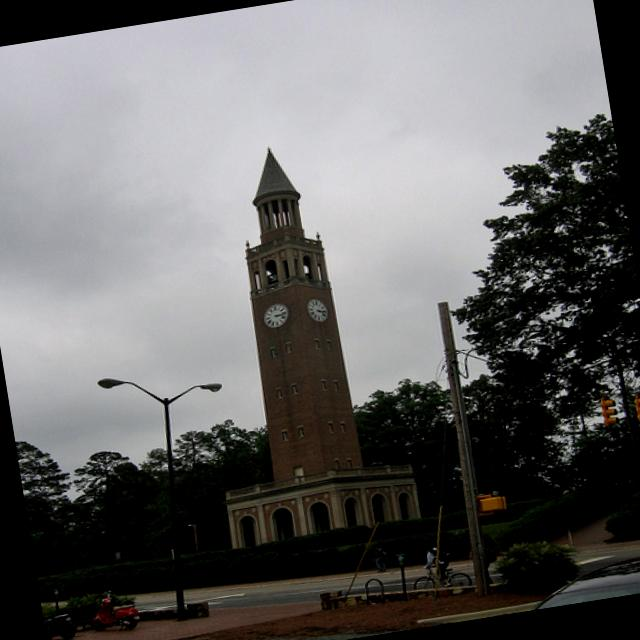Vehicle: (434, 549, 640, 625), (86, 593, 143, 638)
